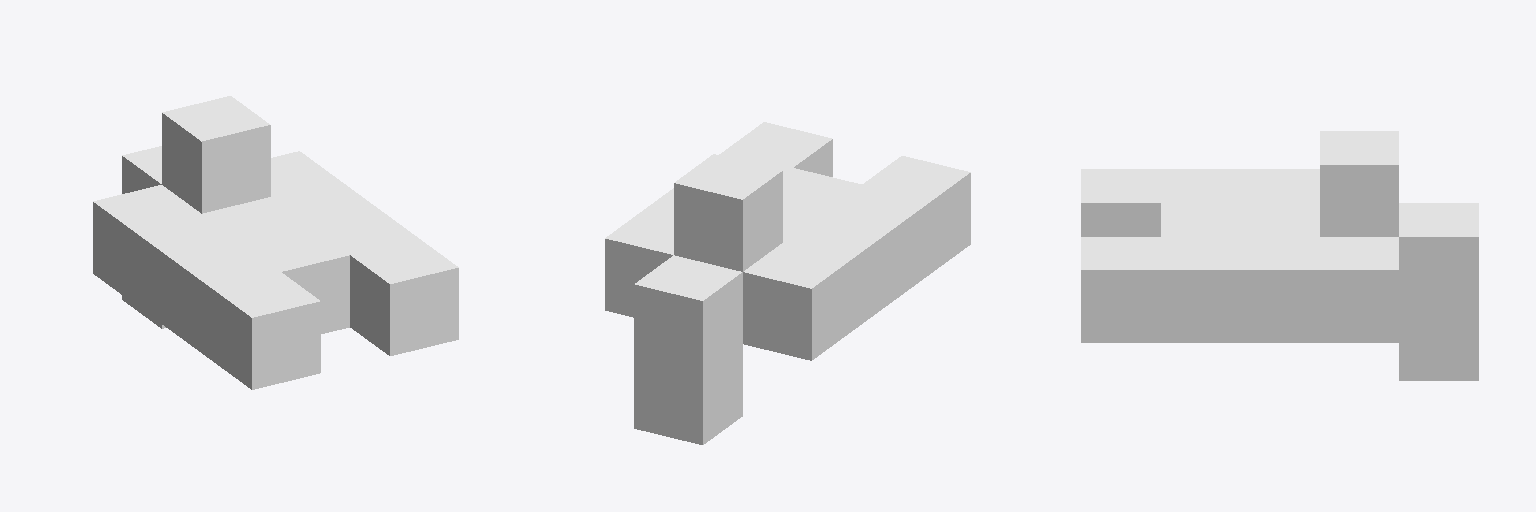
File: Extra-7-StarMarine_MachineGun_L.obj
3 renders of one model, left to right at view 1: azimuth 30°, elevation 25°; view 2: azimuth 150°, elevation 25°; view 3: azimuth 270°, elevation 25°, orthographic.
Parts seen in each view (by area): view 1: StarMarine_MachineGun_L; view 2: StarMarine_MachineGun_L; view 3: StarMarine_MachineGun_L.
Part boxes in pixels (left/top/right/bottom): StarMarine_MachineGun_L: left=93, top=96, right=458, bottom=389; StarMarine_MachineGun_L: left=605, top=122, right=970, bottom=444; StarMarine_MachineGun_L: left=1081, top=131, right=1478, bottom=380.
Size of the model in its own units: 0.3 by 0.3 by 0.5.